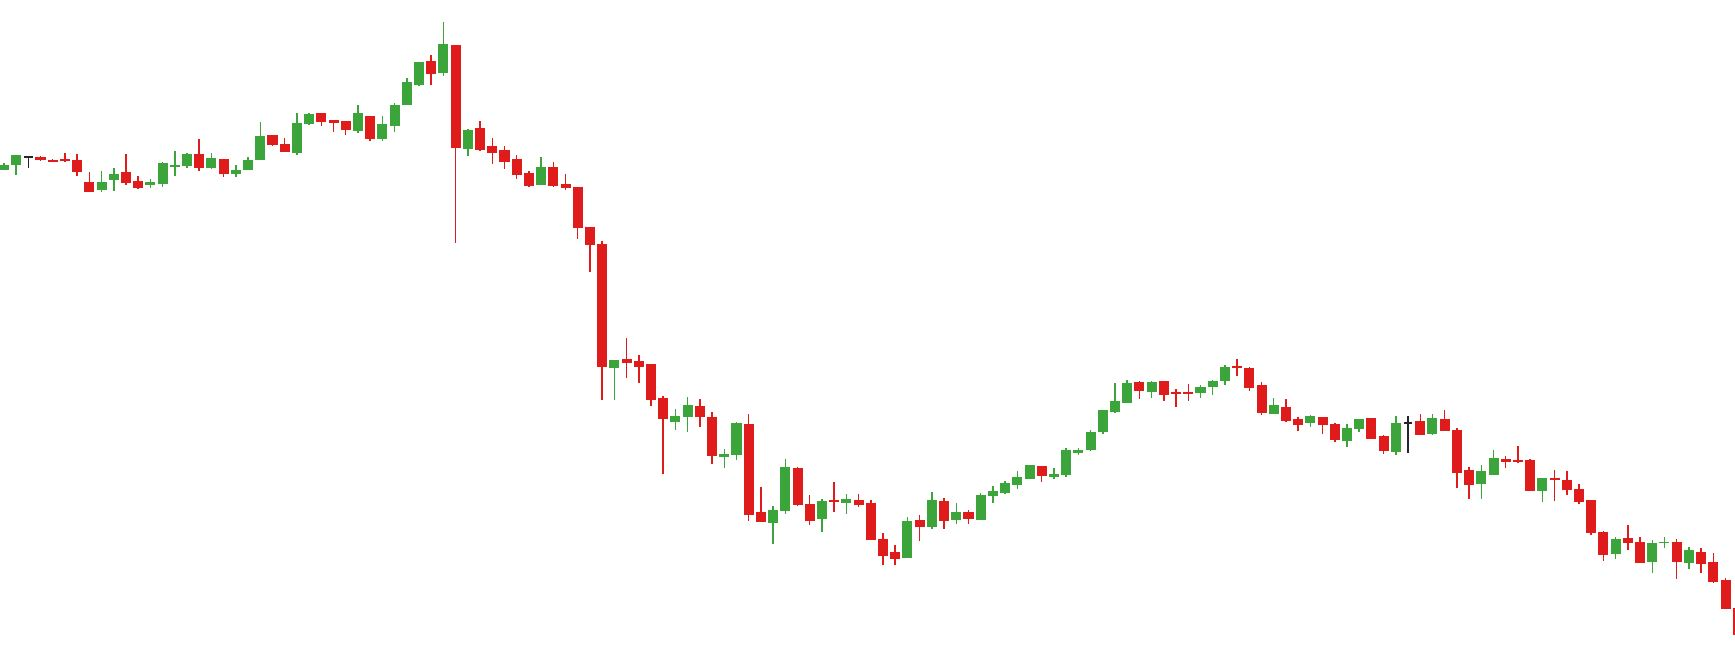buy: (765, 491, 915, 573)
